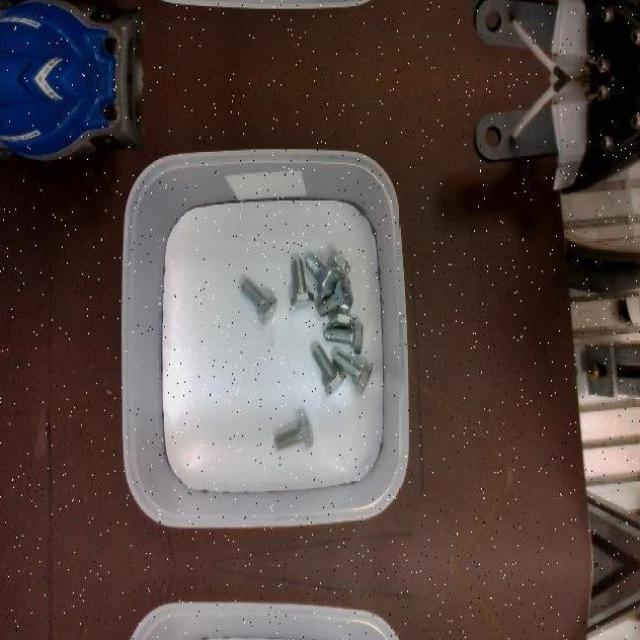screw: (333, 351, 373, 394), (313, 344, 347, 394), (241, 278, 277, 324), (305, 254, 340, 299), (275, 413, 314, 450), (317, 278, 353, 316), (326, 322, 365, 354), (291, 258, 315, 308)
